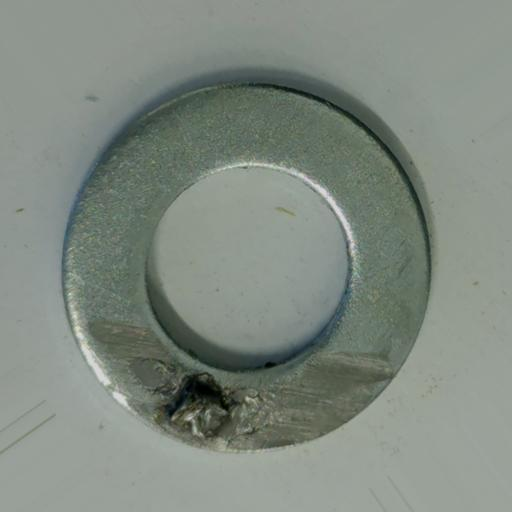excess_material: (142, 359, 286, 443)
